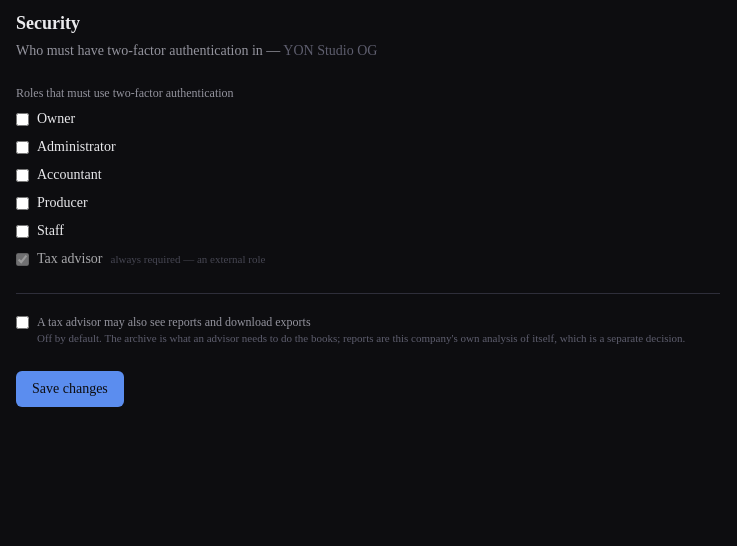
Test: Security screen — the consequence of requiring 2FA › withdraws the warning when the box is unticked again
Click the checkbox labelled "Producer".
click(22, 203)  # box [16,196,29,210]
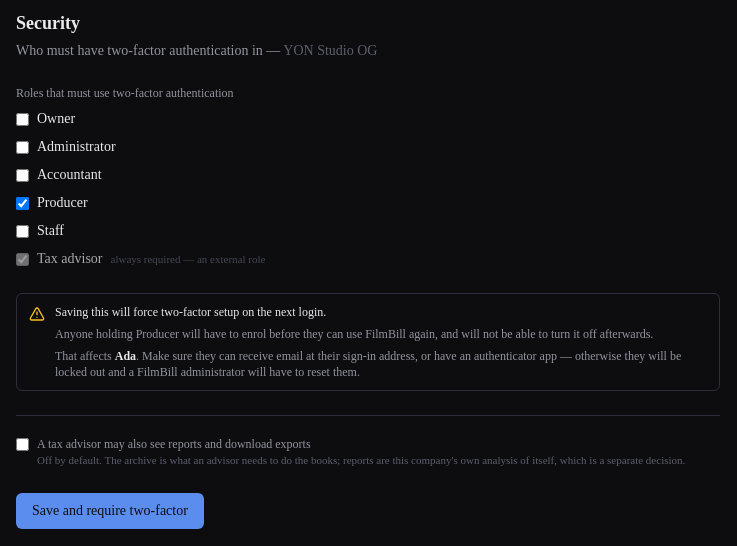
Now the message with test id "require-2fa-consequence" is shown, box [16,293,720,391]
Click the checkbox labelled "Producer".
click(22, 203)  # box [16,196,29,210]
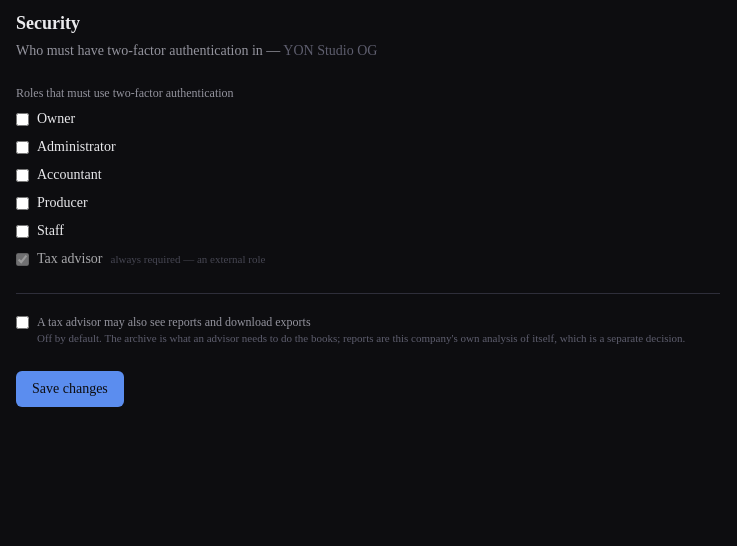
Now the message with test id "require-2fa-consequence" is gone
